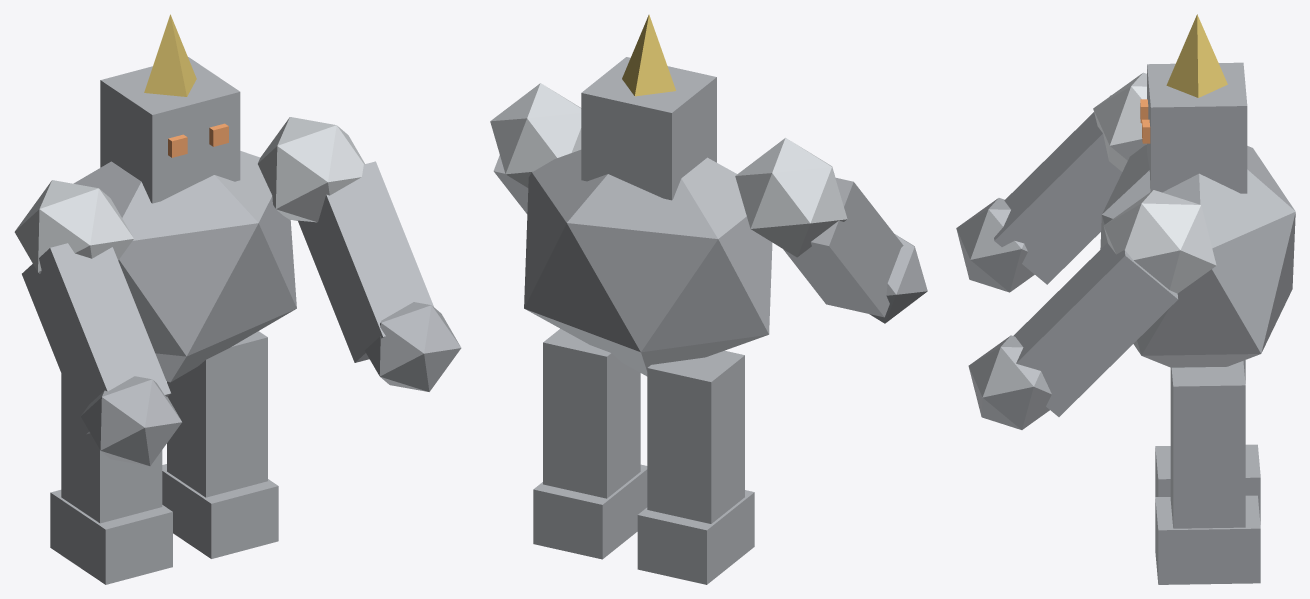
File: npcpose_golem_walk_03.glb
3 views of the same model, side by side, from view 1: azimuth 30°, elevation 25°; view 2: azimuth 150°, elevation 25°; view 3: azimuth 270°, elevation 25° (orthographic).
Parts seen in each view (by area): view 1: npcpose; view 2: npcpose; view 3: npcpose.
Part boxes in pixels (<box>): npcpose: <box>14,14,461,584</box>; npcpose: <box>490,14,927,584</box>; npcpose: <box>956,14,1295,584</box>.
Size of the model in its own units: 1.38 by 1.93 by 1.13.
